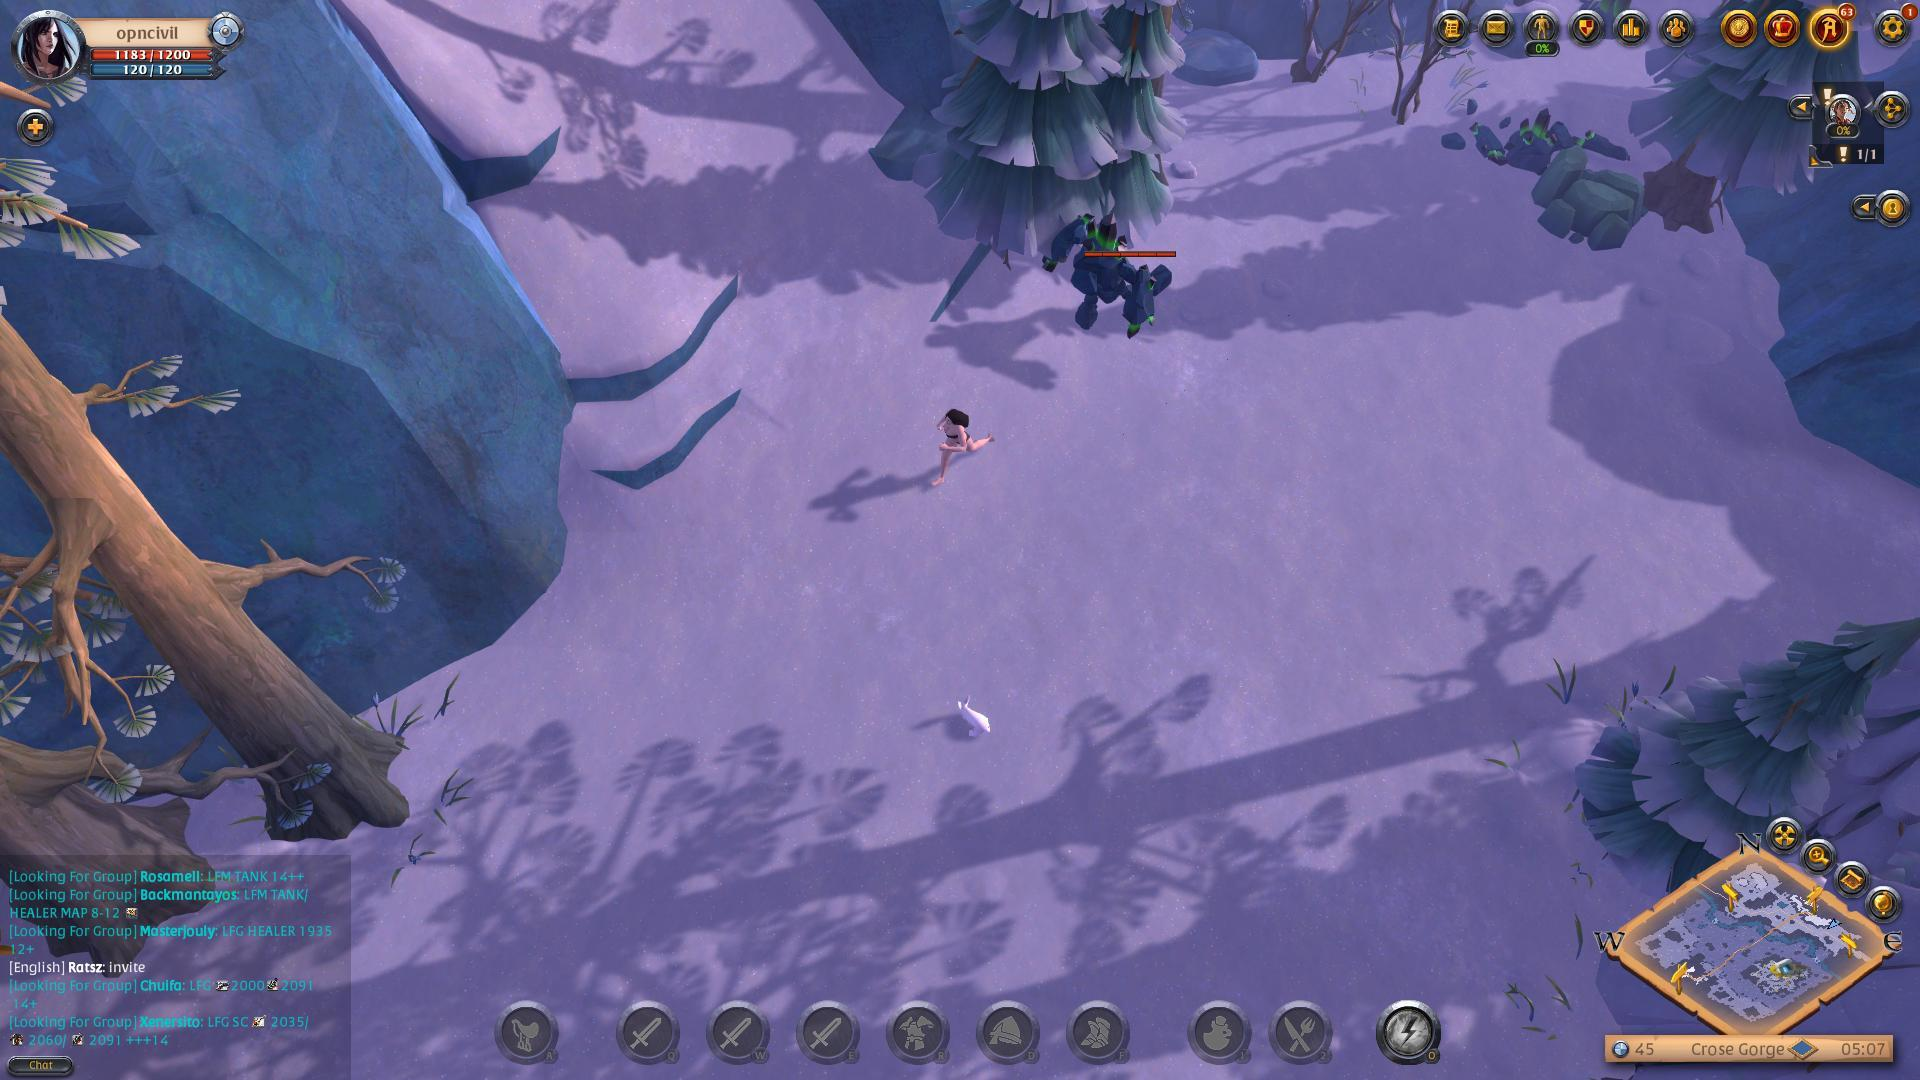limestone: (0, 531, 66, 613)
sandstone: (1526, 127, 1646, 251)
